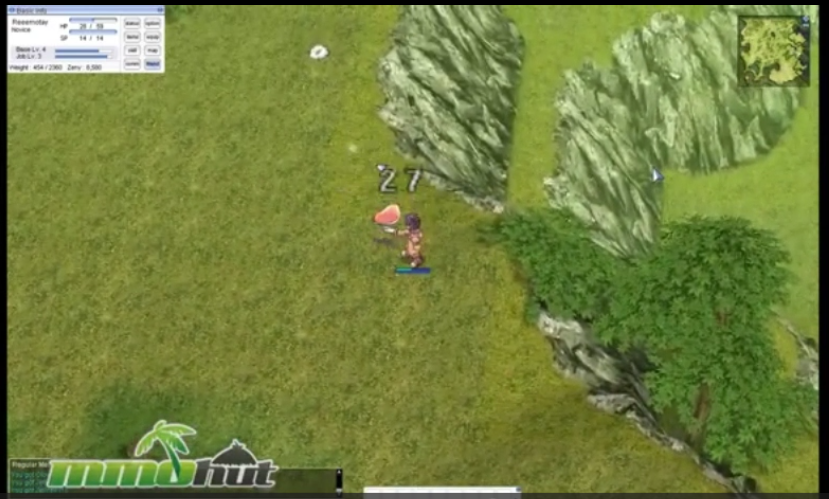lunatic: (311, 44, 329, 60)
porling: (378, 204, 400, 226)
